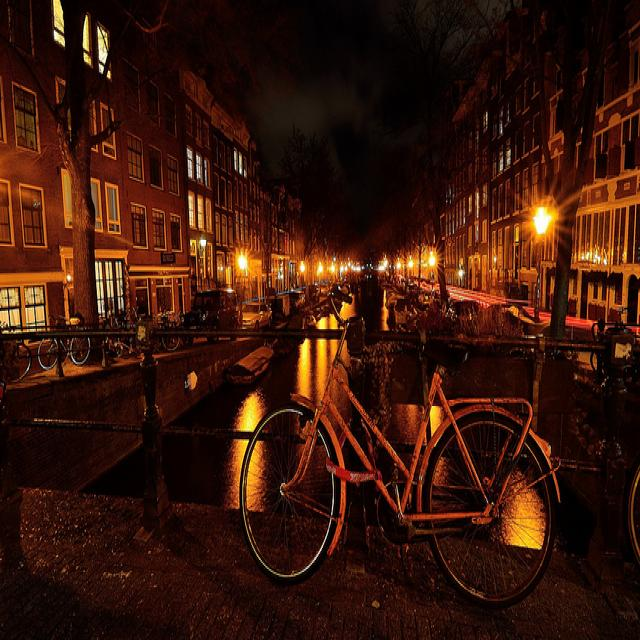Bicycle: (224, 309, 575, 610), (36, 308, 116, 376), (0, 314, 37, 395)
